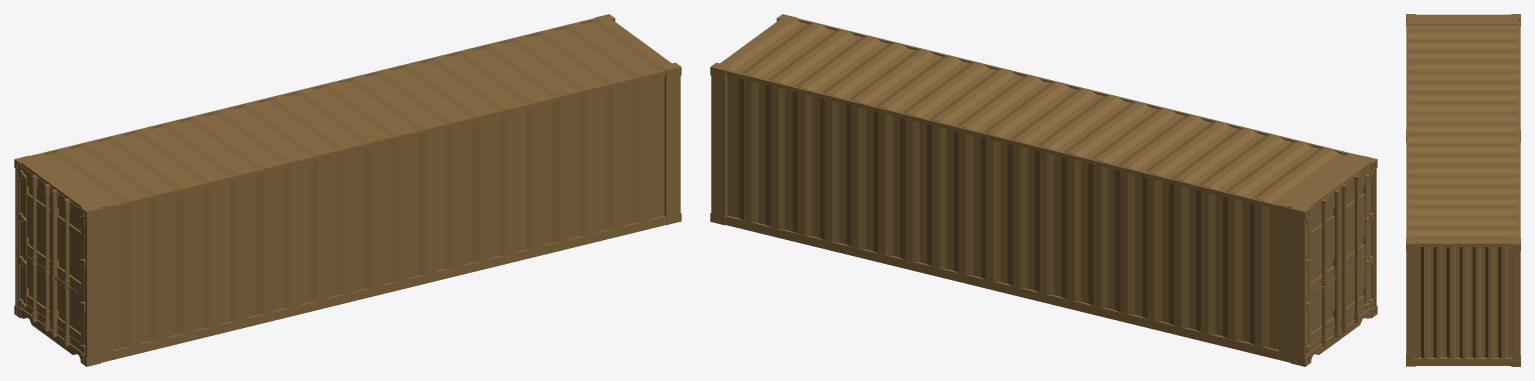
Rendered from counter.glb.
3 views of the same model, side by side, from view 1: azimuth 30°, elevation 25°; view 2: azimuth 150°, elevation 25°; view 3: azimuth 270°, elevation 25° (orthographic). The views are drawn at different scales.
Parts seen in each view (by area): view 1: Mesh_Mesh_head_geo.001_lambert2SG.001; view 2: Mesh_Mesh_head_geo.001_lambert2SG.001; view 3: Mesh_Mesh_head_geo.001_lambert2SG.001.
Part boxes in pixels (left/top/right/bottom): Mesh_Mesh_head_geo.001_lambert2SG.001: left=14, top=14, right=681, bottom=366; Mesh_Mesh_head_geo.001_lambert2SG.001: left=710, top=14, right=1377, bottom=366; Mesh_Mesh_head_geo.001_lambert2SG.001: left=1406, top=14, right=1520, bottom=366.
Size of the model in its own units: 0.121 by 0.03 by 0.0254.
